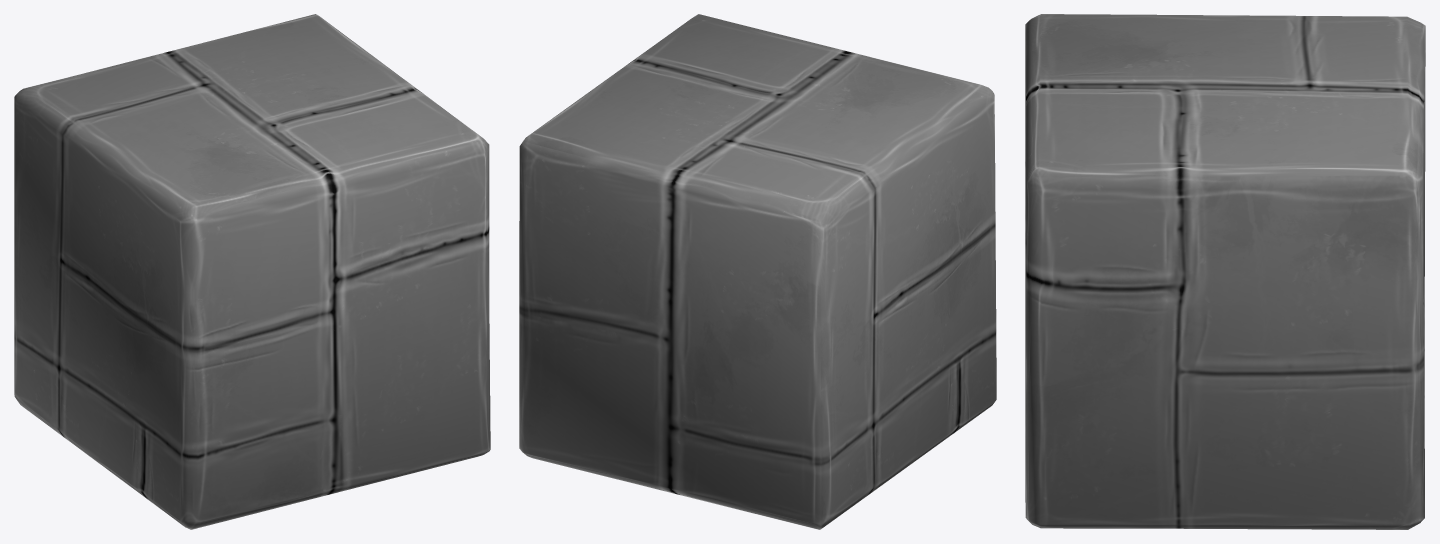
File: 1 x 1 Block_2.fbx
The picture shows the model from 3 angles, left to right: view 1: azimuth 30°, elevation 25°; view 2: azimuth 150°, elevation 25°; view 3: azimuth 270°, elevation 25°; orthographic projection. The views are drawn at different scales.
Parts seen in each view (by area): view 1: Cube_low; view 2: Cube_low; view 3: Cube_low.
Part boxes in pixels (<box>): Cube_low: <box>14,14,490,529</box>; Cube_low: <box>519,14,996,529</box>; Cube_low: <box>1025,14,1425,529</box>.
Bounding box in the file's own units: 100 × 100 × 100.
Materials: 1 (1 with a texture image).
